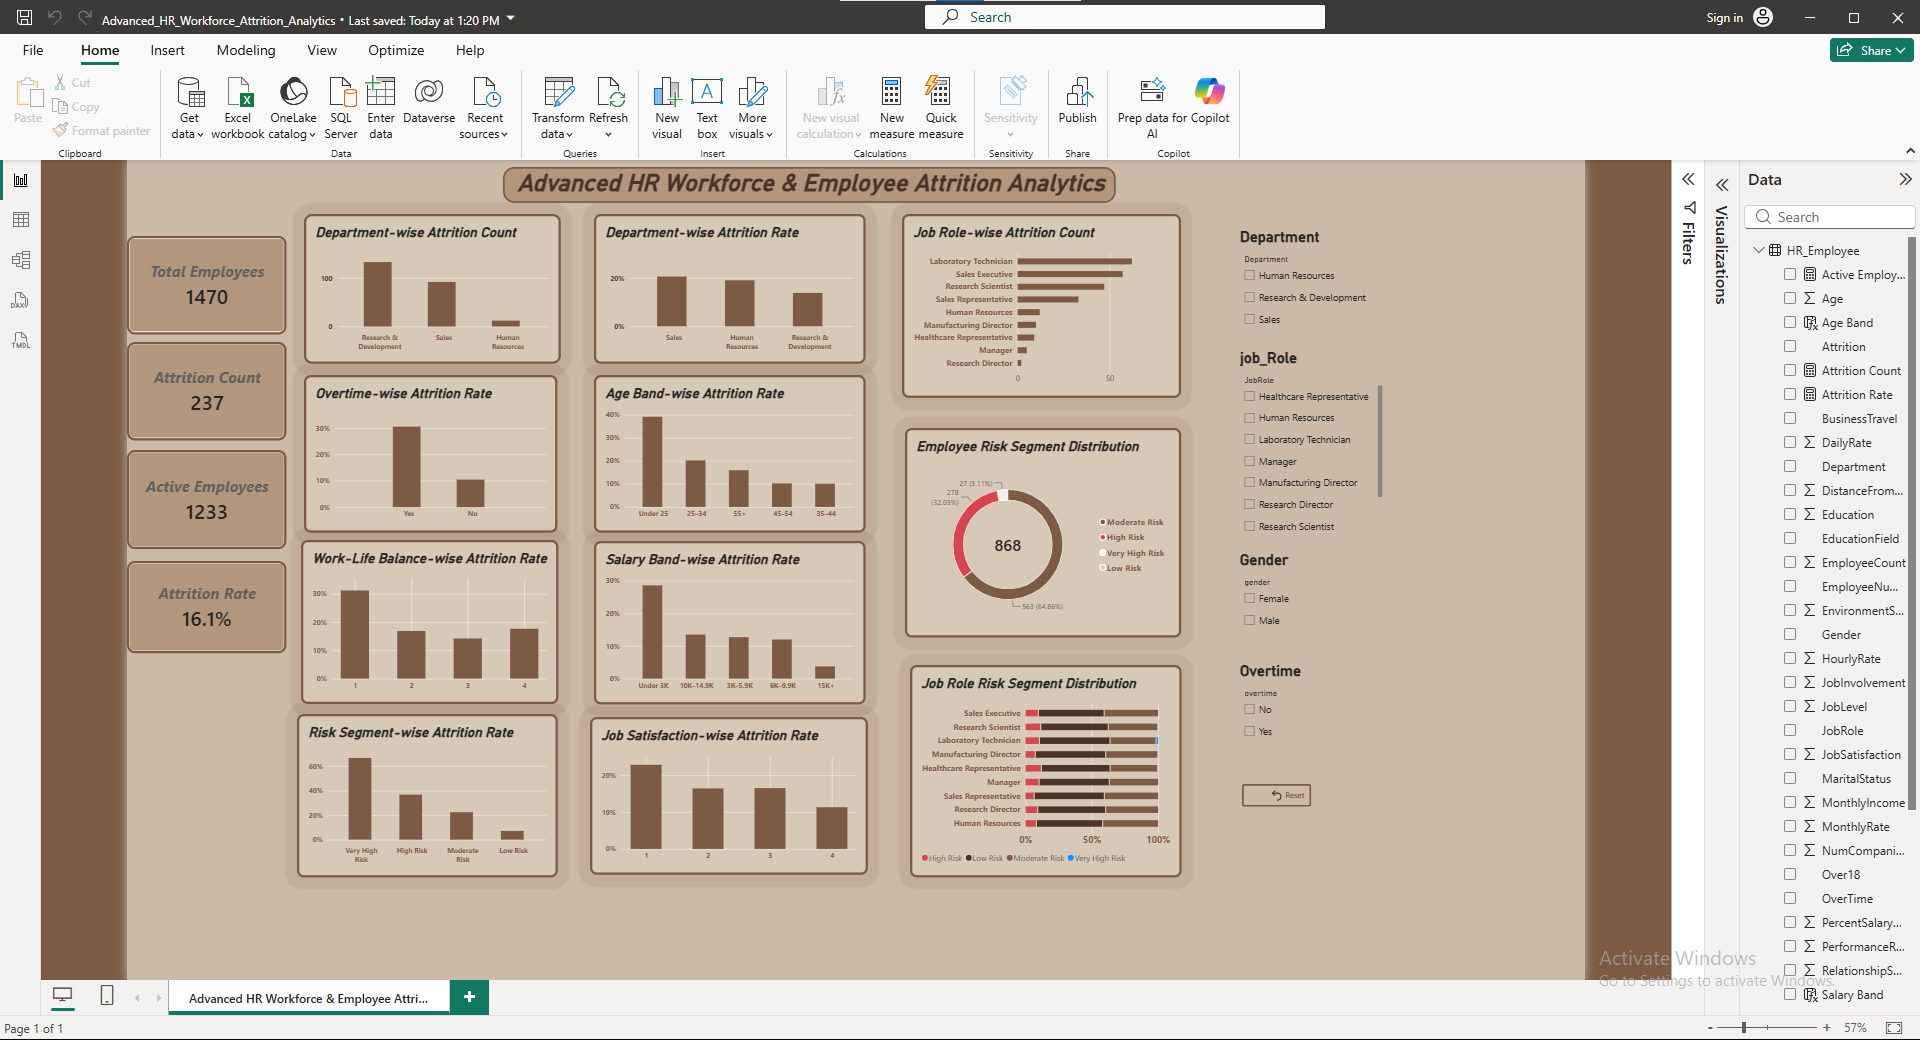

Layout of this report page (visuals, bound fields, positions):
{"tool":"powerbi","page":{"name":"Advanced HR Workforce & Employee Attrition Analytics","canvas":[2560,1440],"ordinal":0},"visuals":[{"type":"cardVisual","fields":{"Data":["HR_Employee.Total Employees"]},"box":[0,133.9,280.1,172.6],"z":0},{"type":"cardVisual","fields":{"Data":["HR_Employee.Attrition Count"]},"box":[0,319.6,280.1,172.6],"z":1000},{"type":"cardVisual","fields":{"Data":["HR_Employee.Active Employees"]},"box":[0,508.9,280.1,174.1],"z":2000},{"type":"cardVisual","fields":{"Data":["HR_Employee.Attrition Rate"]},"box":[0,703.6,280.1,162],"z":3000},{"type":"clusteredColumnChart","title":"Department-wise Attrition Count","fields":{"Category":["HR_Employee.Department"],"Y":["HR_Employee.Attrition Count"]},"box":[311.7,95,451.2,263.5],"z":4000},{"type":"clusteredColumnChart","title":"Department-wise Attrition Rate","fields":{"Y":["HR_Employee.Attrition Rate"],"Category":["HR_Employee.Department"]},"box":[820,95,476.7,263.3],"z":5000},{"type":"clusteredBarChart","title":"Job Role-wise Attrition Count","fields":{"Category":["HR_Employee.JobRole"],"Y":["HR_Employee.Attrition Count"]},"box":[1361.7,95,490,323.3],"z":6000},{"type":"clusteredColumnChart","title":"Overtime-wise Attrition Rate","fields":{"Category":["HR_Employee.OverTime"],"Y":["HR_Employee.Attrition Rate"]},"box":[311.7,378.3,445.2,277.1],"z":7000},{"type":"clusteredColumnChart","title":"Job Satisfaction-wise Attrition Rate","fields":{"Category":["HR_Employee.JobSatisfaction"],"Y":["HR_Employee.Attrition Rate"]},"box":[813.3,978.3,488.3,276.7],"z":8000},{"type":"clusteredColumnChart","title":"Work-Life Balance-wise Attrition Rate","fields":{"Category":["HR_Employee.WorkLifeBalance"],"Y":["HR_Employee.Attrition Rate"]},"box":[305,666.7,451.7,288.3],"z":9000},{"type":"clusteredColumnChart","title":"Age Band-wise Attrition Rate","fields":{"Category":["HR_Employee.Age Band"],"Y":["HR_Employee.Attrition Rate"]},"box":[820,378.3,476.7,276.7],"z":10000},{"type":"clusteredColumnChart","title":"Salary Band-wise Attrition Rate","fields":{"Category":["HR_Employee.Salary Band"],"Y":["HR_Employee.Attrition Rate"]},"box":[820,668.3,476.7,286.7],"z":11000},{"type":"clusteredColumnChart","title":"Risk Segment-wise Attrition Rate","fields":{"Category":["public hr_employee.risk_segment"],"Y":["HR_Employee.Attrition Rate"]},"box":[298.3,973.3,458.3,286.7],"z":12000},{"type":"donutChart","title":"Employee Risk Segment Distribution","fields":{"Category":["public hr_employee.risk_segment"],"Y":["Sum(public hr_employee.employee_risk_score)"]},"box":[1366.7,470,485,368.3],"z":13000},{"type":"hundredPercentStackedBarChart","title":"Job Role Risk Segment Distribution","fields":{"Category":["public hr_employee.job_role"],"Series":["public hr_employee.risk_segment"],"Y":["CountNonNull(public hr_employee.employee_number)"]},"box":[1375,886.7,476.7,373.3],"z":14000},{"type":"slicer","title":"Department","fields":{"Values":["HR_Employee.Department"]},"box":[1955,120,250,212.5],"z":15000},{"type":"slicer","title":"job_Role","fields":{"Values":["HR_Employee.JobRole"]},"box":[1955,331.7,250,323.2],"z":16000},{"type":"slicer","title":"Gender","fields":{"Values":["public hr_employee.gender"]},"box":[1955,686.7,194.6,194.6],"z":17000},{"type":"slicer","title":"Overtime","fields":{"Values":["public hr_employee.overtime"]},"box":[1955,881.7,205.4,183.9],"z":18000},{"type":"textbox","title":"Advanced HR Workforce & Employee Attrition Analytics","box":[660,11.7,1076.5,63.2],"z":19000},{"type":"actionButton","box":[1958.3,1096.7,121.7,40],"z":20000}]}

Visuals, with their boxes on the page's 2560x1440 design canvas (x1, y1, x2, y2). These are canvas units, not pixel positions in the 1920x1040 screenshot, which may show the page scaled, cropped or inside an application window:
cardVisual - HR_Employee.Total Employees: select_region(0, 134, 280, 306)
cardVisual - HR_Employee.Attrition Count: select_region(0, 320, 280, 492)
cardVisual - HR_Employee.Active Employees: select_region(0, 509, 280, 683)
cardVisual - HR_Employee.Attrition Rate: select_region(0, 704, 280, 866)
"Department-wise Attrition Count" clusteredColumnChart: select_region(312, 95, 763, 358)
"Department-wise Attrition Rate" clusteredColumnChart: select_region(820, 95, 1297, 358)
"Job Role-wise Attrition Count" clusteredBarChart: select_region(1362, 95, 1852, 418)
"Overtime-wise Attrition Rate" clusteredColumnChart: select_region(312, 378, 757, 655)
"Job Satisfaction-wise Attrition Rate" clusteredColumnChart: select_region(813, 978, 1302, 1255)
"Work-Life Balance-wise Attrition Rate" clusteredColumnChart: select_region(305, 667, 757, 955)
"Age Band-wise Attrition Rate" clusteredColumnChart: select_region(820, 378, 1297, 655)
"Salary Band-wise Attrition Rate" clusteredColumnChart: select_region(820, 668, 1297, 955)
"Risk Segment-wise Attrition Rate" clusteredColumnChart: select_region(298, 973, 757, 1260)
"Employee Risk Segment Distribution" donutChart: select_region(1367, 470, 1852, 838)
"Job Role Risk Segment Distribution" hundredPercentStackedBarChart: select_region(1375, 887, 1852, 1260)
"Department" slicer: select_region(1955, 120, 2205, 332)
"job_Role" slicer: select_region(1955, 332, 2205, 655)
"Gender" slicer: select_region(1955, 687, 2150, 881)
"Overtime" slicer: select_region(1955, 882, 2160, 1066)
"Advanced HR Workforce & Employee Attrition Analytics" textbox: select_region(660, 12, 1736, 75)
actionButton: select_region(1958, 1097, 2080, 1137)
